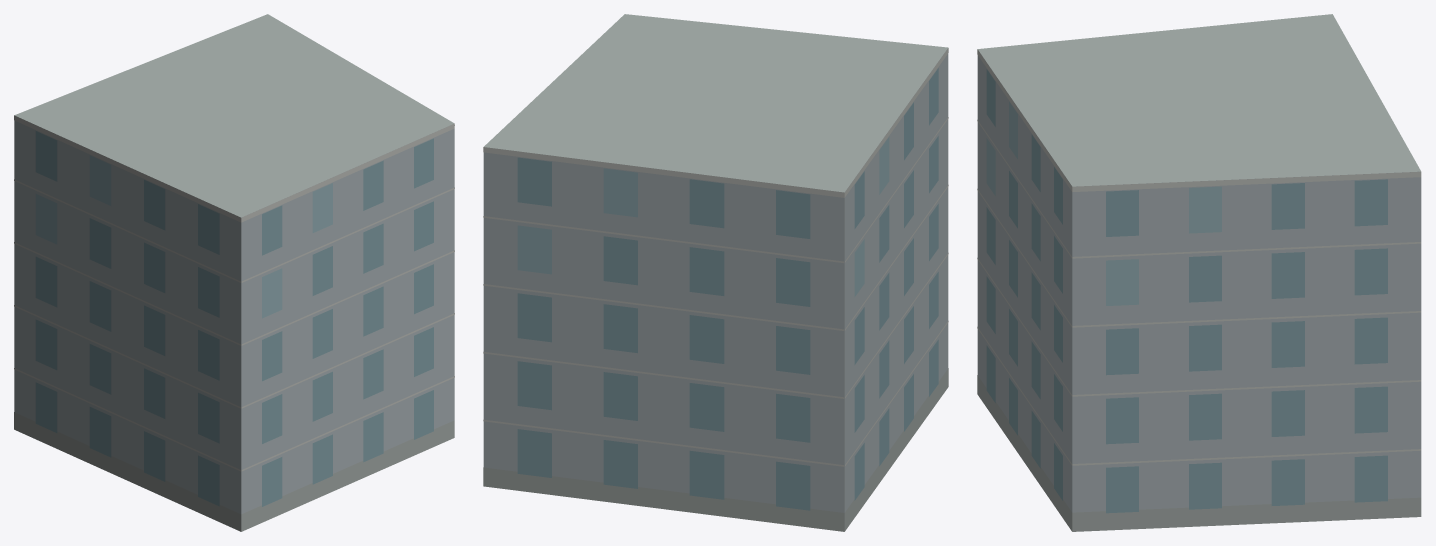
Rendered from residential-3bb5a1e2-f235-4e9d-ae15-376c383bf729.glb.
3 views of the same model, side by side, from view 1: azimuth 30°, elevation 25°; view 2: azimuth 150°, elevation 25°; view 3: azimuth 270°, elevation 25° (orthographic). The views are drawn at different scales.
Parts seen in each view (by area): view 1: residential-3bb5a1e2-f235-4e9d-ae15-376c383bf729.tmp; view 2: residential-3bb5a1e2-f235-4e9d-ae15-376c383bf729.tmp; view 3: residential-3bb5a1e2-f235-4e9d-ae15-376c383bf729.tmp.
Boxes of the visible parts, <box> form: residential-3bb5a1e2-f235-4e9d-ae15-376c383bf729.tmp: <box>14,14,454,531</box>; residential-3bb5a1e2-f235-4e9d-ae15-376c383bf729.tmp: <box>483,14,948,531</box>; residential-3bb5a1e2-f235-4e9d-ae15-376c383bf729.tmp: <box>977,14,1421,531</box>.
Size of the model in its own units: 16.38 by 15.25 by 17.79.
